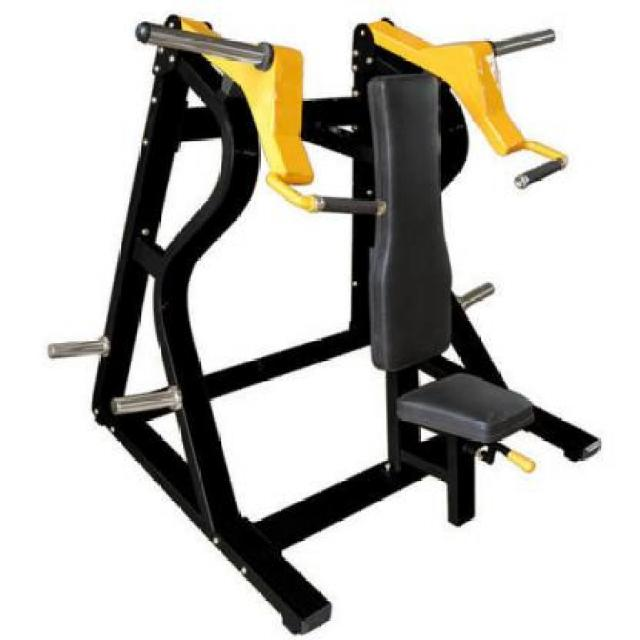shoulder press machine: (40, 0, 608, 640)
